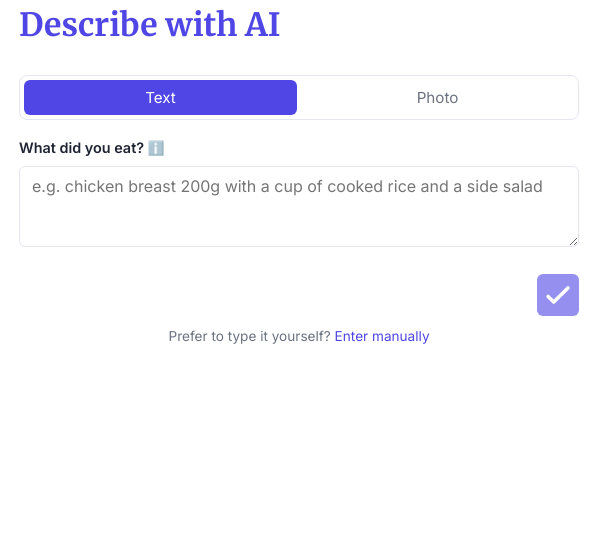
it: AiEntryPage › shows the manual fallback when estimation is unavailable
Type "something" into the text box labelled "What did you eat? ℹ️". click: coordinates (299, 206)
box: [19,166,579,247]
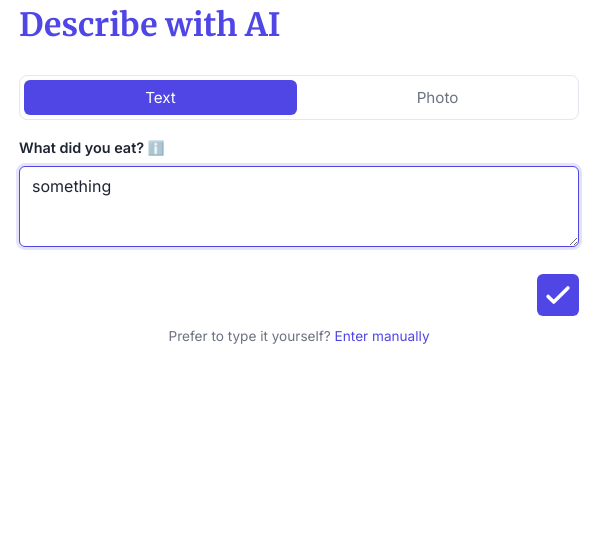
Click the button named "Estimate". click: coordinates (558, 295)
box: [537,274,579,316]
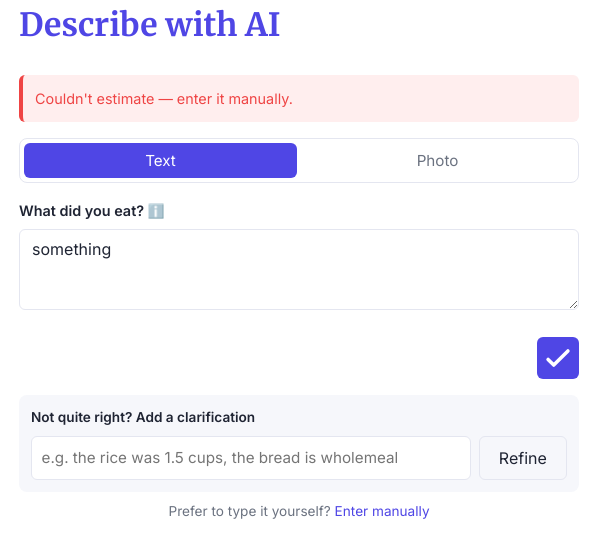
Expected: the message shows "enter it manually", [35,90,293,107]
